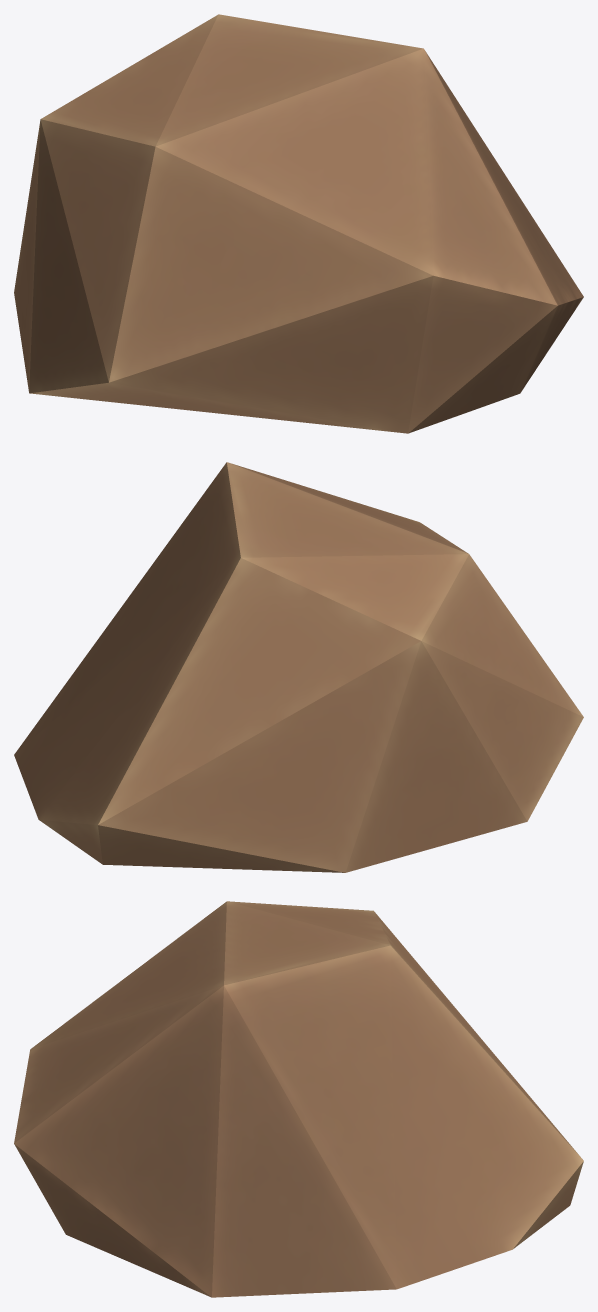
Rendered from Rock_33.fbx.
3 renders of one model, top to bottom at view 1: azimuth 30°, elevation 25°; view 2: azimuth 150°, elevation 25°; view 3: azimuth 270°, elevation 25°, orthographic. The views are drawn at different scales.
Parts seen in each view (by area): view 1: Rock_33; view 2: Rock_33; view 3: Rock_33.
Boxes of the visible parts, left/top/right/bottom form: Rock_33: left=14, top=14, right=583, bottom=433; Rock_33: left=14, top=462, right=583, bottom=872; Rock_33: left=14, top=901, right=583, bottom=1297.
Size of the model in its own units: 28.37 by 14.78 by 30.97.
